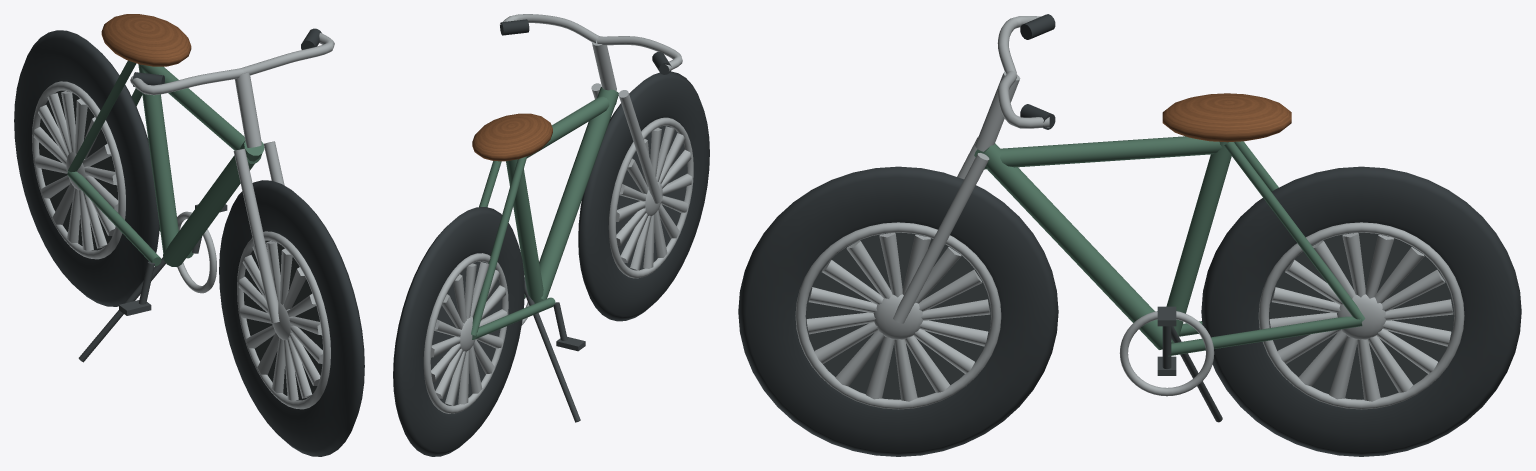
Rendered from veh_bike_velodrome-b9f998742749.glb.
3 views of the same model, side by side, from view 1: azimuth 30°, elevation 25°; view 2: azimuth 150°, elevation 25°; view 3: azimuth 270°, elevation 25° (orthographic). The views are drawn at different scales.
Parts seen in each view (by area): view 1: surface_rubber (×3), surface_steel (×4), surface_#547765, surface_graphite (×3), surface_walnut; view 2: surface_rubber (×3), surface_steel (×3), surface_#547765, surface_graphite (×3), surface_walnut; view 3: surface_rubber (×3), surface_steel (×4), surface_graphite (×3), surface_#547765, surface_walnut.
Boxes of the visible parts, bbox=[...] form: surface_rubber (×3): bbox=[14, 28, 364, 456]; surface_steel (×4): bbox=[32, 33, 334, 409]; surface_#547765: bbox=[67, 60, 264, 266]; surface_graphite (×3): bbox=[39, 90, 322, 400]; surface_walnut: bbox=[101, 14, 191, 66]; surface_rubber (×3): bbox=[393, 19, 709, 456]; surface_steel (×3): bbox=[423, 14, 693, 413]; surface_#547765: bbox=[471, 87, 618, 339]; surface_graphite (×3): bbox=[430, 126, 687, 422]; surface_walnut: bbox=[472, 113, 552, 161]; surface_rubber (×3): bbox=[738, 14, 1521, 456]; surface_steel (×4): bbox=[795, 16, 1464, 409]; surface_graphite (×3): bbox=[805, 232, 1454, 422]; surface_#547765: bbox=[974, 136, 1365, 356]; surface_walnut: bbox=[1162, 93, 1291, 142].
Size of the model in its own units: 0.5344 by 0.9248 by 1.66.
Materials: 5 (1 with a texture image).
